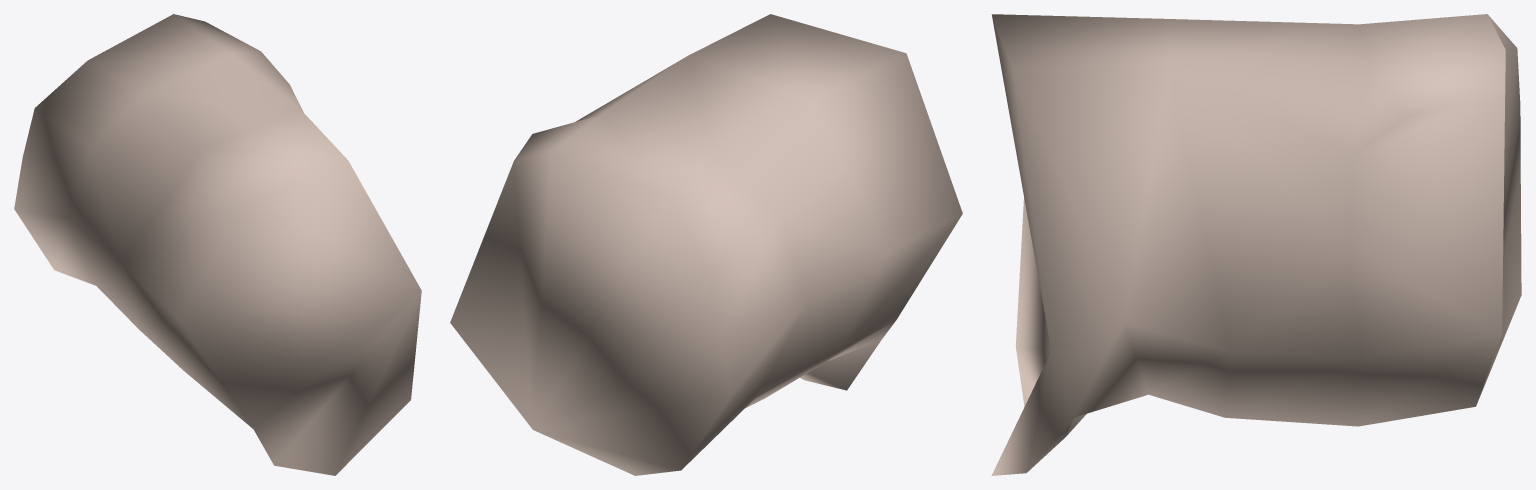
File: LRing1stPhalange.dae
The picture shows the model from 3 angles, left to right: view 1: azimuth 30°, elevation 25°; view 2: azimuth 150°, elevation 25°; view 3: azimuth 270°, elevation 25°; orthographic projection. The views are drawn at different scales.
Visible parts, largest first — view 1: ShapeIndexedFaceSet; view 2: ShapeIndexedFaceSet; view 3: ShapeIndexedFaceSet.
Boxes of the visible parts, x1=… form: ShapeIndexedFaceSet: x1=14, y1=14, x2=421, y2=475; ShapeIndexedFaceSet: x1=450, y1=14, x2=962, y2=475; ShapeIndexedFaceSet: x1=991, y1=14, x2=1521, y2=475.
Size of the model in its own units: 0.0186 by 0.0242 by 0.0223.
